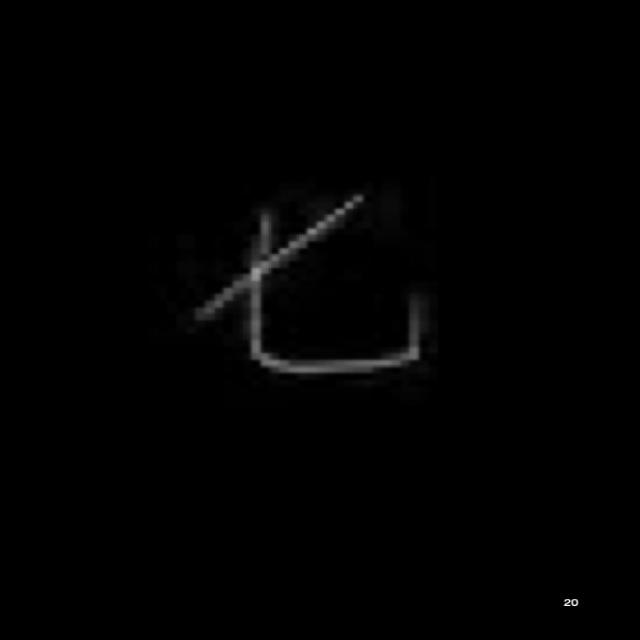7 -seven-: (186, 188, 437, 384)
